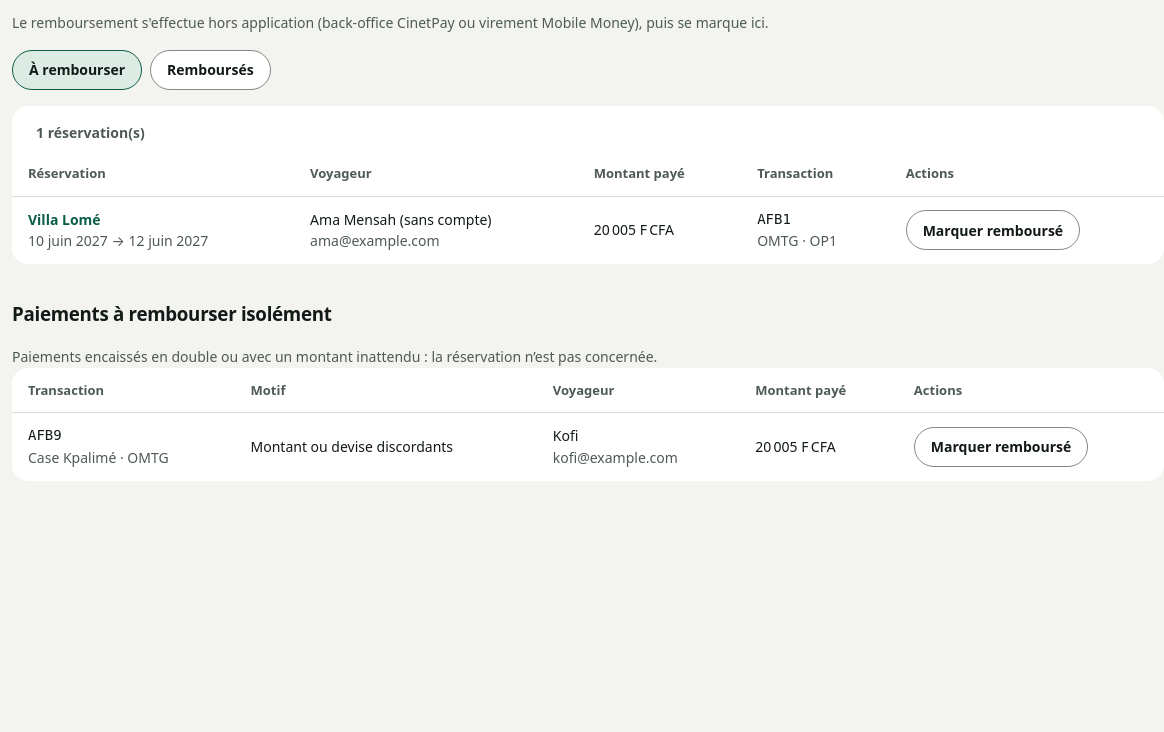
Test: AdminRefunds › lists isolated payments (amount mismatch, duplicate) and marks one as refunded
Expected: the text "Montant ou devise discordants" is shown, [234,413,537,481]
Click the button "Marquer remboursé" in the row of "AFB9" at (1001, 447), box [914,427,1088,467]
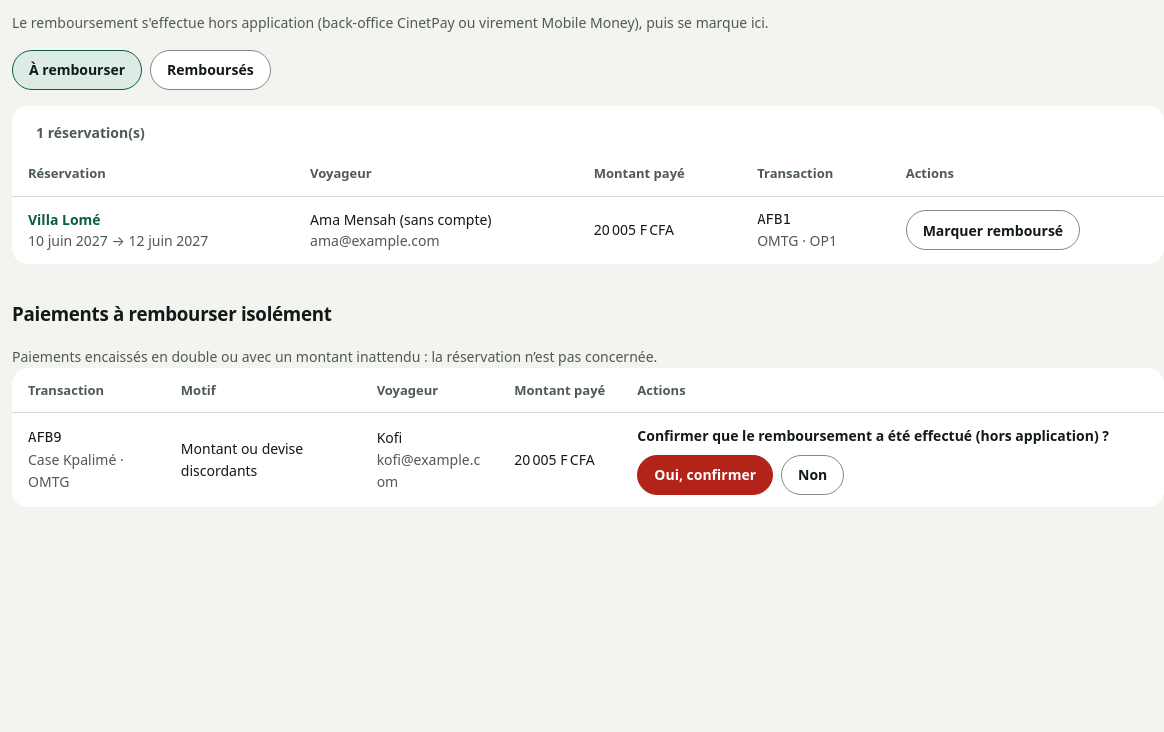
Click the button "Oui, confirmer" at (705, 475), box [637,455,773,495]
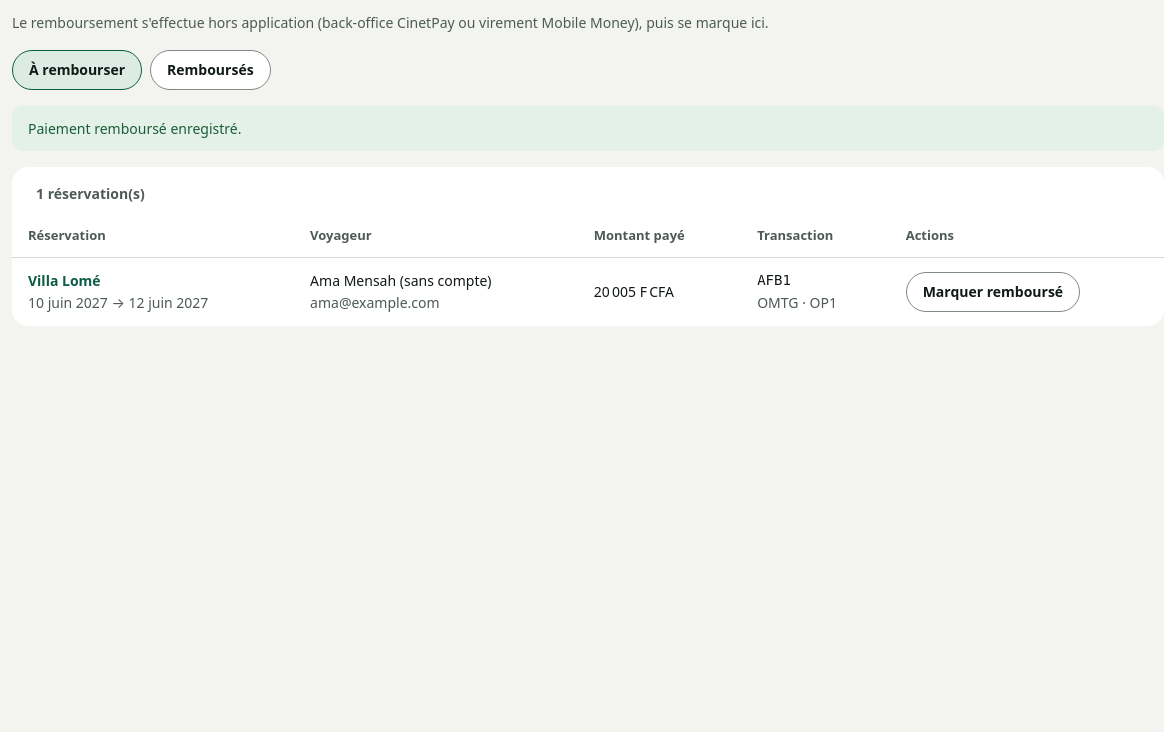
Result: the text "Paiement remboursé enregistré." is shown at [12,106,1163,151]
Result: the text "AFB9" is gone
